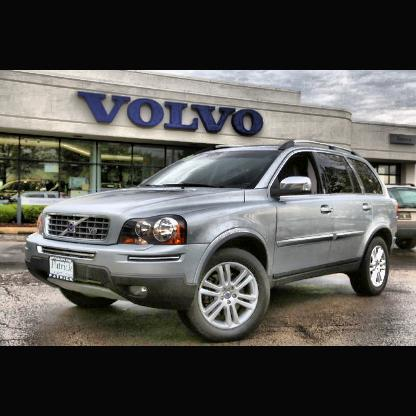Volvo XC90 SUV 2007: (27, 140, 400, 338)
